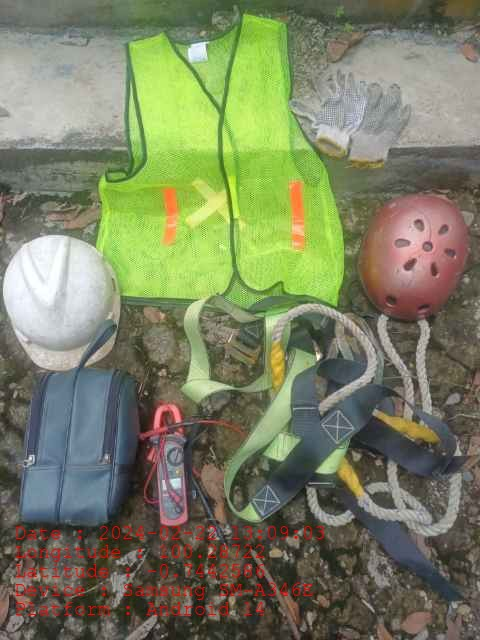HELM: (2, 236, 121, 367)
ROMPI: (112, 16, 333, 298)
TAMBANG_SLING: (270, 311, 458, 536)
